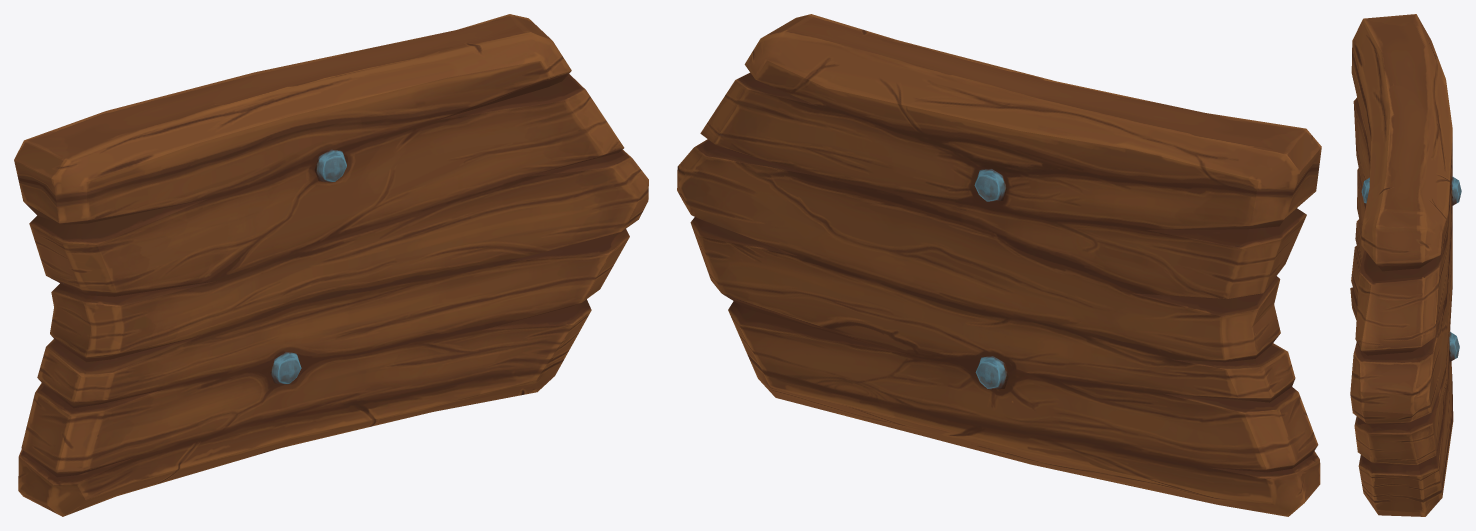
Rendered from title.glb.
3 renders of one model, left to right at view 1: azimuth 30°, elevation 25°; view 2: azimuth 150°, elevation 25°; view 3: azimuth 270°, elevation 25°, orthographic. The views are drawn at different scales.
Visible parts, largest first — view 1: pCube9; view 2: pCube9; view 3: pCube9.
Boxes of the visible parts, bbox=[...] form: pCube9: bbox=[14, 14, 648, 516]; pCube9: bbox=[677, 14, 1321, 516]; pCube9: bbox=[1350, 14, 1461, 516].
Bounding box in the file's own units: 27.44 × 15.4 × 5.14.
1 material, 1 textured.
